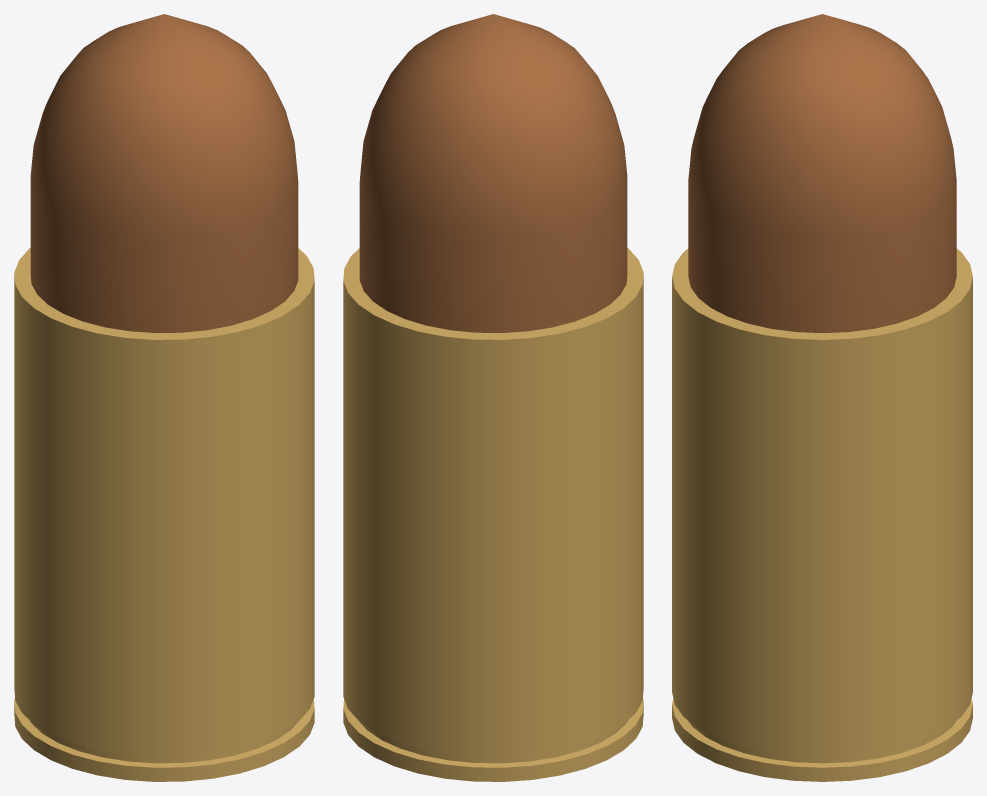
Rendered from bullet.fbx.
3 views of the same model, side by side, from view 1: azimuth 30°, elevation 25°; view 2: azimuth 150°, elevation 25°; view 3: azimuth 270°, elevation 25° (orthographic).
Parts seen in each view (by area): view 1: Cylinder; view 2: Cylinder; view 3: Cylinder.
Boxes of the visible parts, x1,y1,x2,y2 form: Cylinder: (14,14,314,781); Cylinder: (343,14,643,781); Cylinder: (672,14,972,781).
Size of the model in its own units: 200 by 517 by 200.
